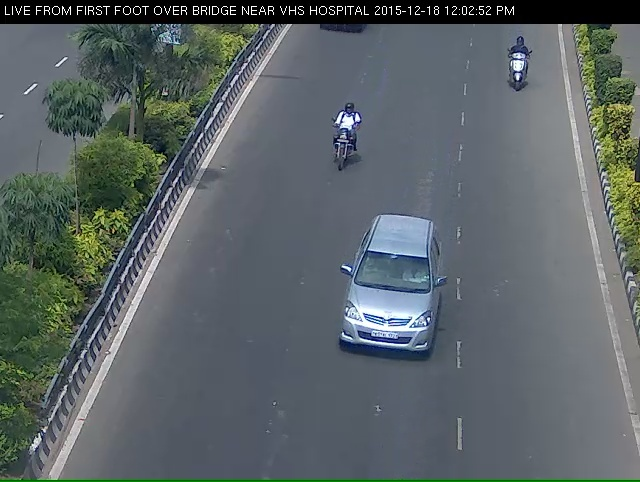Car: (333, 232, 442, 395)
Person: (314, 120, 355, 197), (501, 40, 539, 106)
